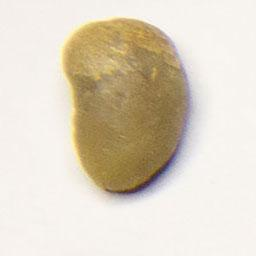longberry: (59, 14, 195, 197)
